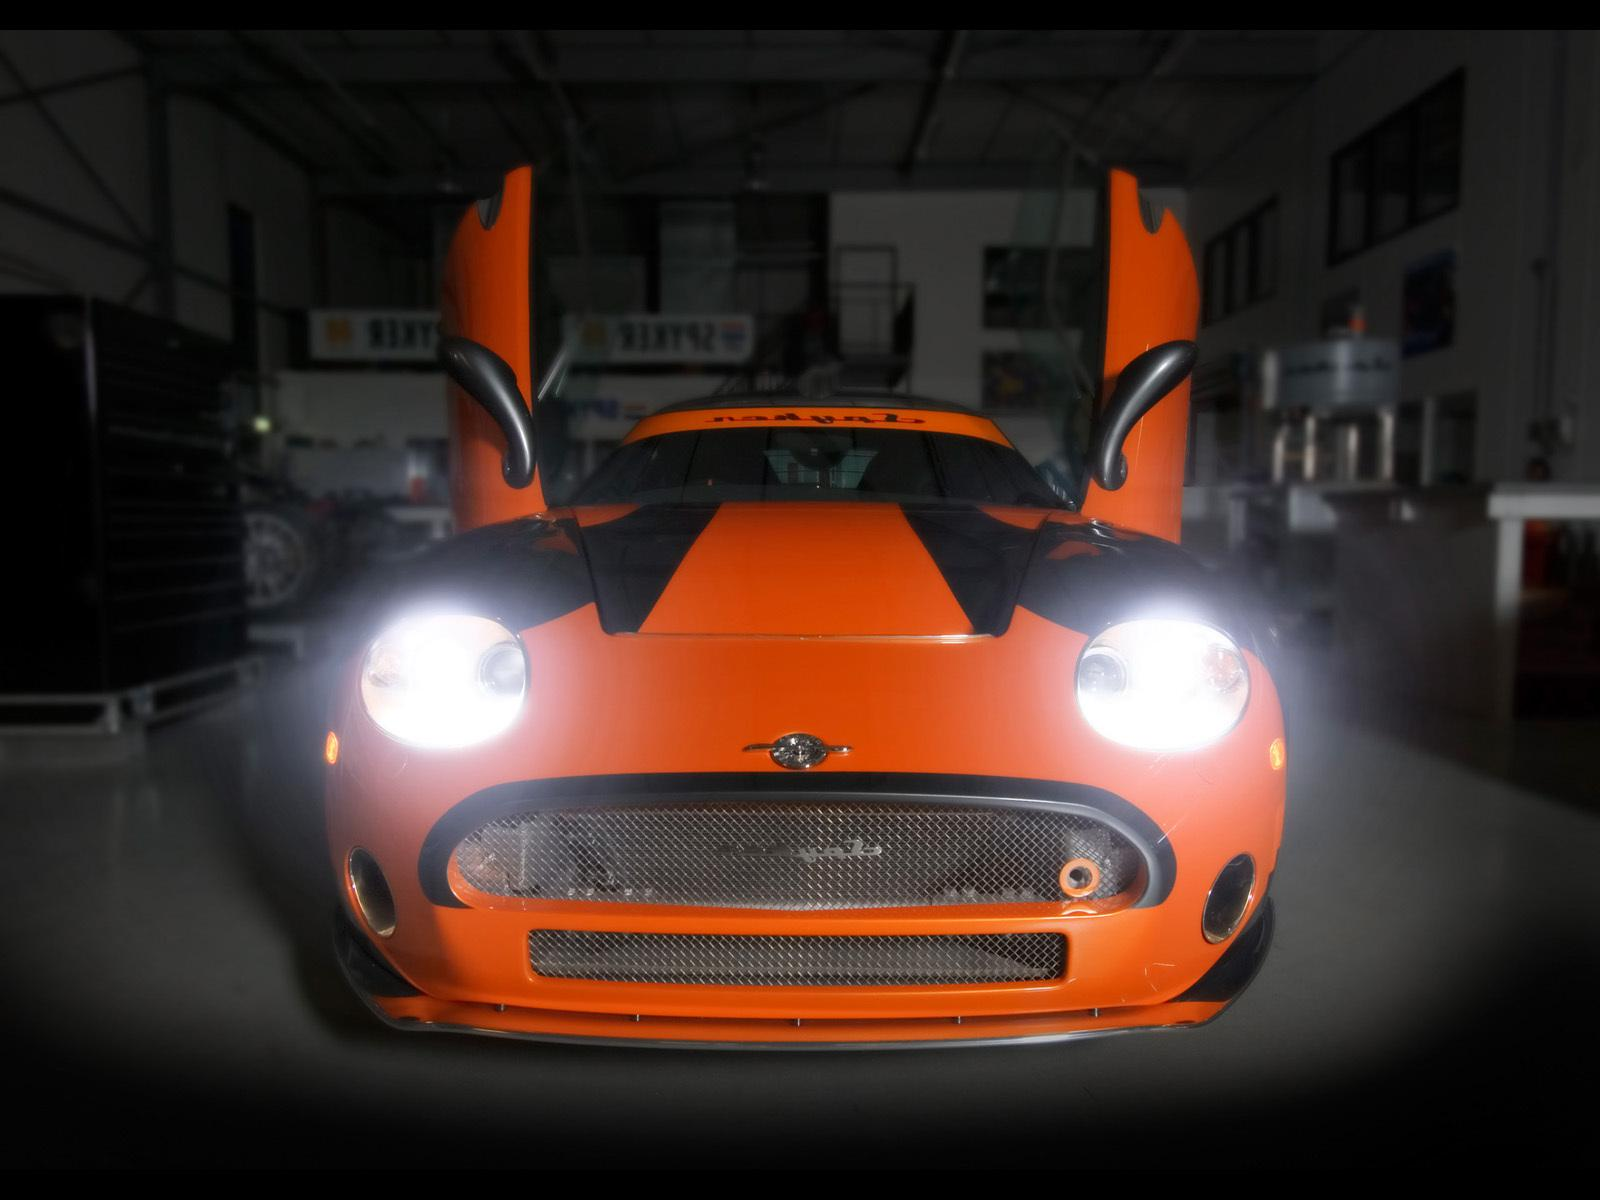Car: (261, 321, 1303, 1082)
